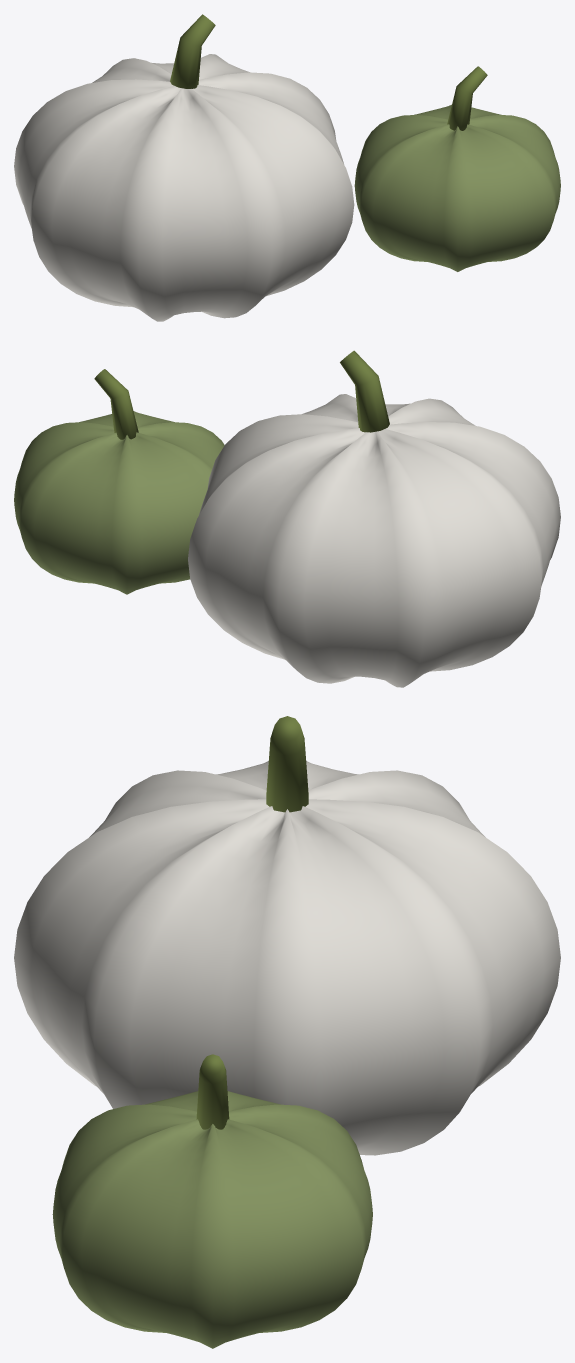
The model's file is white_pumpkin_pair.glb.
3 views of the same model, one above another, from view 1: azimuth 30°, elevation 25°; view 2: azimuth 150°, elevation 25°; view 3: azimuth 270°, elevation 25° (orthographic). The views are drawn at different scales.
Visible parts, largest first — view 1: LH_white_pumpkin_pair; view 2: LH_white_pumpkin_pair; view 3: LH_white_pumpkin_pair.
Part boxes in pixels (x1,y1,x2,y2): LH_white_pumpkin_pair: (14,14,560,321); LH_white_pumpkin_pair: (14,350,560,687); LH_white_pumpkin_pair: (14,716,560,1348).
Size of the model in its own units: 0.36 by 0.194 by 0.22.
